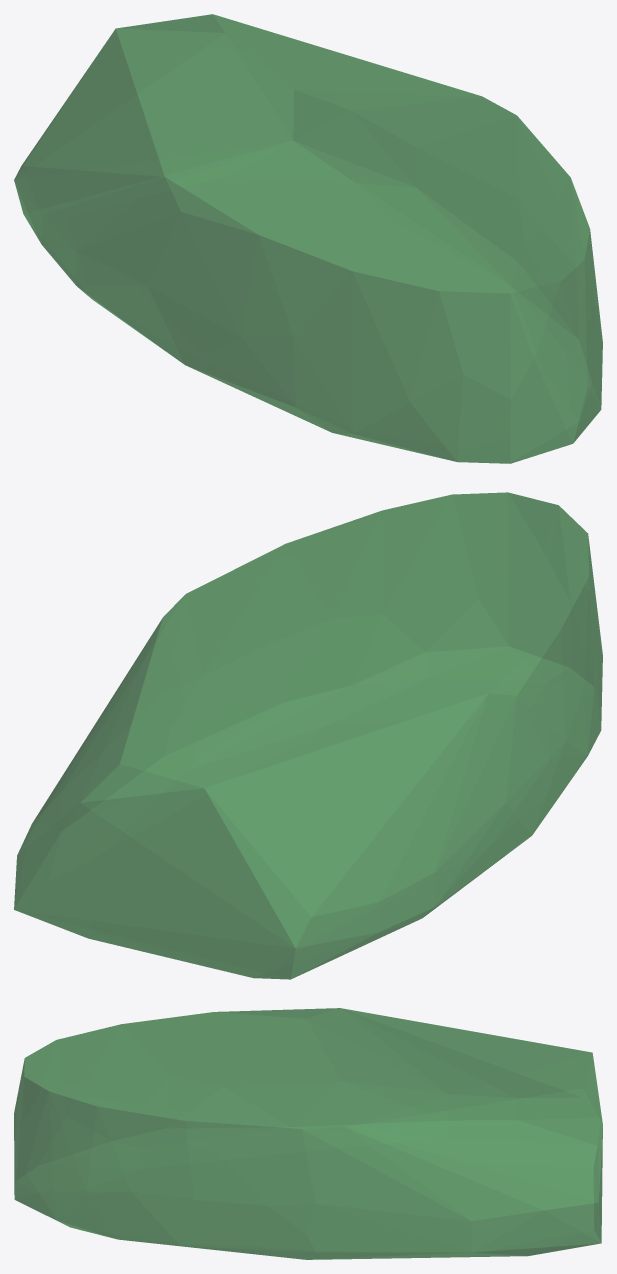
3 views of the same model, one above another, from view 1: azimuth 30°, elevation 25°; view 2: azimuth 150°, elevation 25°; view 3: azimuth 270°, elevation 25° (orthographic). The views are drawn at different scales.
Parts seen in each view (by area): view 1: Shape_IndexedFaceSet.003_Shape_IndexedFaceSet.16773; view 2: Shape_IndexedFaceSet.003_Shape_IndexedFaceSet.16773; view 3: Shape_IndexedFaceSet.003_Shape_IndexedFaceSet.16773.
Part boxes in pixels (x1,y1,x2,y2): Shape_IndexedFaceSet.003_Shape_IndexedFaceSet.16773: [14, 14, 602, 463]; Shape_IndexedFaceSet.003_Shape_IndexedFaceSet.16773: [14, 492, 602, 979]; Shape_IndexedFaceSet.003_Shape_IndexedFaceSet.16773: [14, 1008, 602, 1259].
Bounding box in the file's own units: 0.4637 × 0.2243 × 0.8744.
